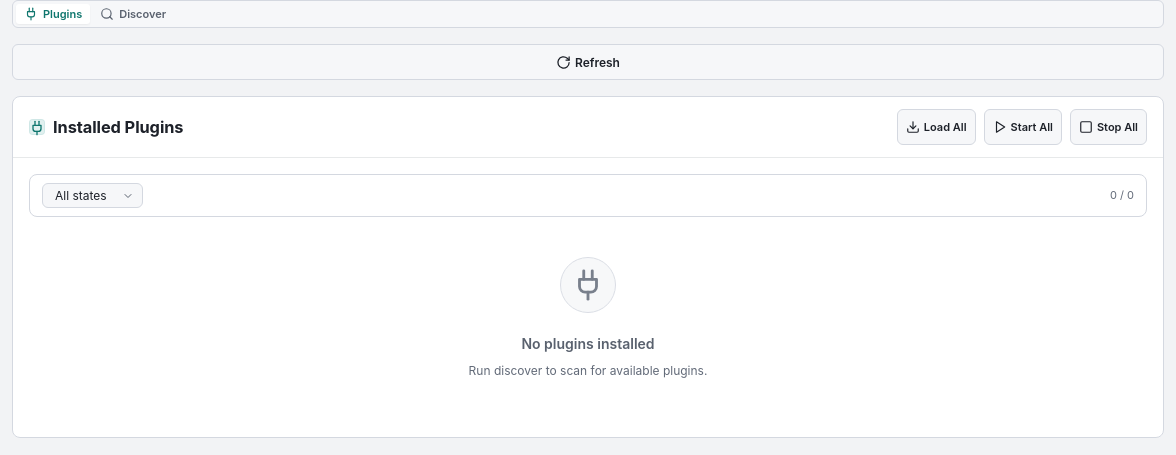
it: Plugins.vue › renders discover list when discover API returns data
This screenshot has width=1176, height=455.
# Switch to discover tab
Click the radio button with class "segmented__item" showing "Discover" at (133, 14), box x1=92 y1=4 x2=174 y2=24
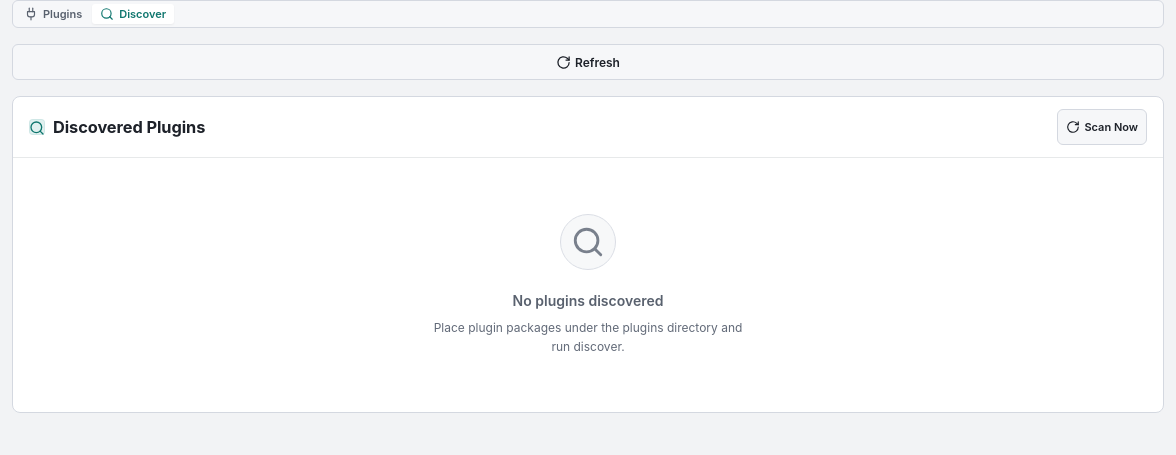
expect the button "Scan Now" is shown: met
Click the button "Scan Now" at (1102, 127), box x1=1057 y1=109 x2=1147 y2=145
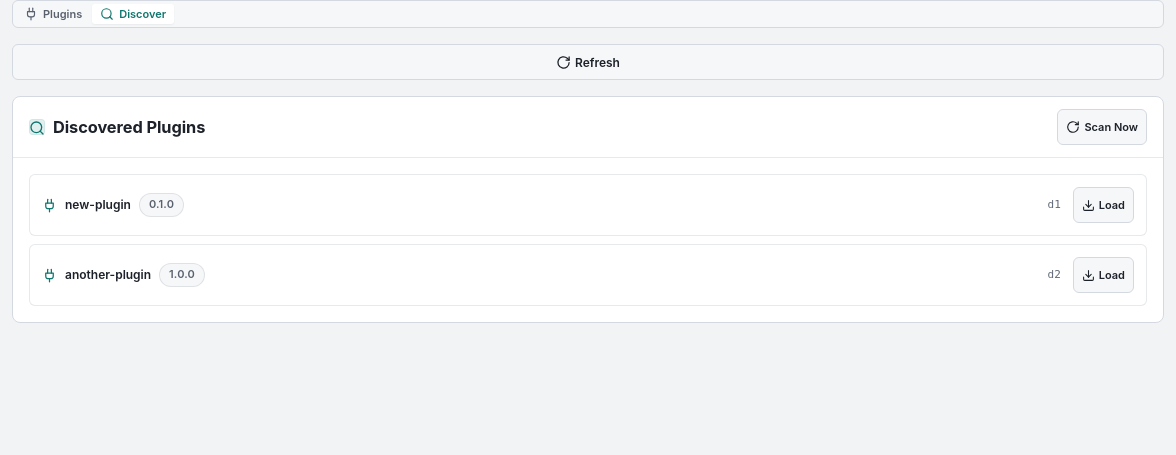
expect the number of elements with class "dc-item" is 2: met, box x1=29 y1=174 x2=1147 y2=236; x1=29 y1=244 x2=1147 y2=306
expect the text "new-plugin" is shown: met, box x1=65 y1=196 x2=131 y2=214
